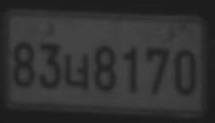0: (174, 48, 198, 95)
1: (121, 47, 144, 93)
3: (37, 43, 61, 88)
7: (145, 48, 170, 95)
8: (11, 41, 35, 87), (94, 44, 117, 92)
너: (64, 52, 89, 92)
